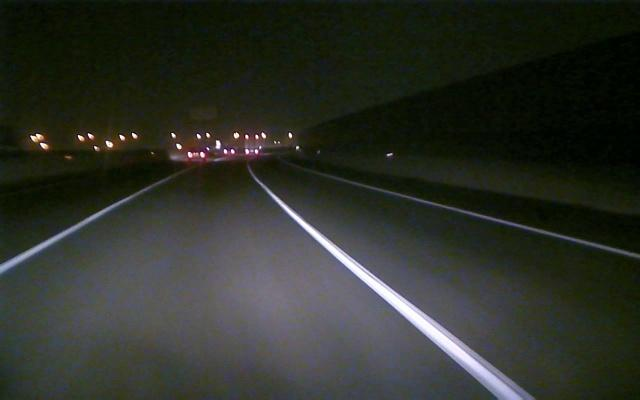lane: (256, 181, 534, 399), (326, 174, 640, 260), (0, 180, 166, 275)
